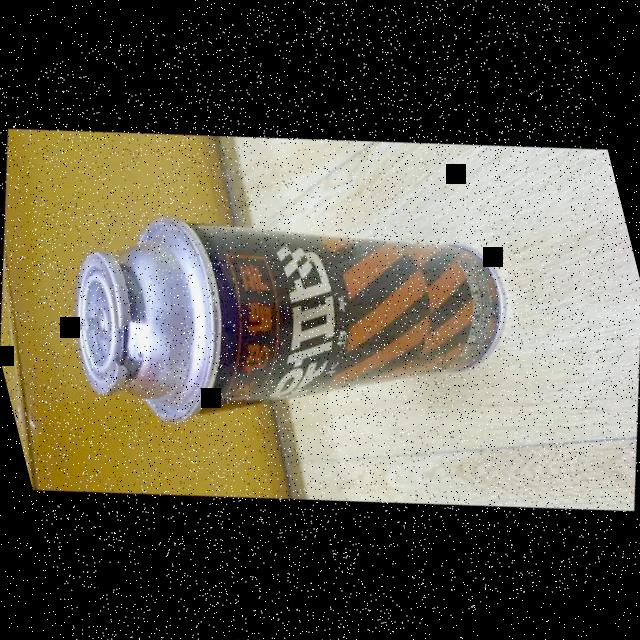chemical_spray_can: (10, 99, 570, 540)
